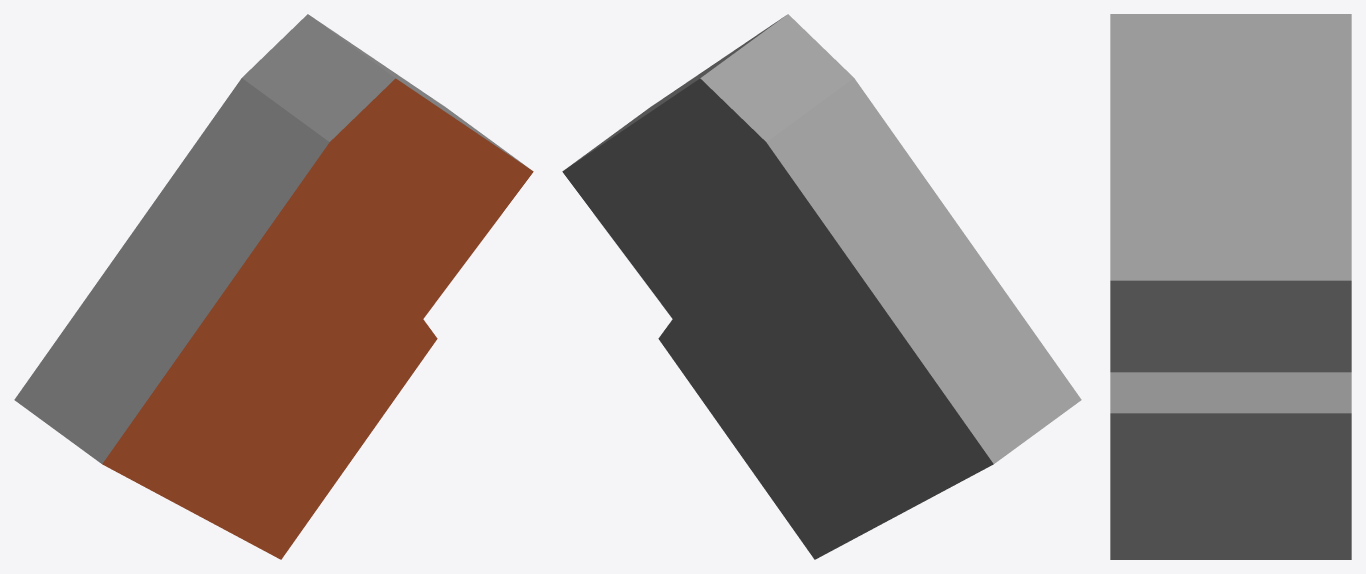
Rendered from construction_3568_assumed_A_Casa_h6m.obj.
3 renders of one model, left to right at view 1: azimuth 30°, elevation 25°; view 2: azimuth 150°, elevation 25°; view 3: azimuth 270°, elevation 25°, orthographic. The views are drawn at different scales.
Parts seen in each view (by area): view 1: construction_3568_assumed_A_Casa; view 2: construction_3568_assumed_A_Casa; view 3: construction_3568_assumed_A_Casa.
Part boxes in pixels (box(x1,y1,x2,y2)): construction_3568_assumed_A_Casa: box(14, 14, 533, 559); construction_3568_assumed_A_Casa: box(562, 14, 1081, 559); construction_3568_assumed_A_Casa: box(1110, 14, 1351, 559).
Bounding box in the file's own units: 17.02 × 17.09 × 6.
